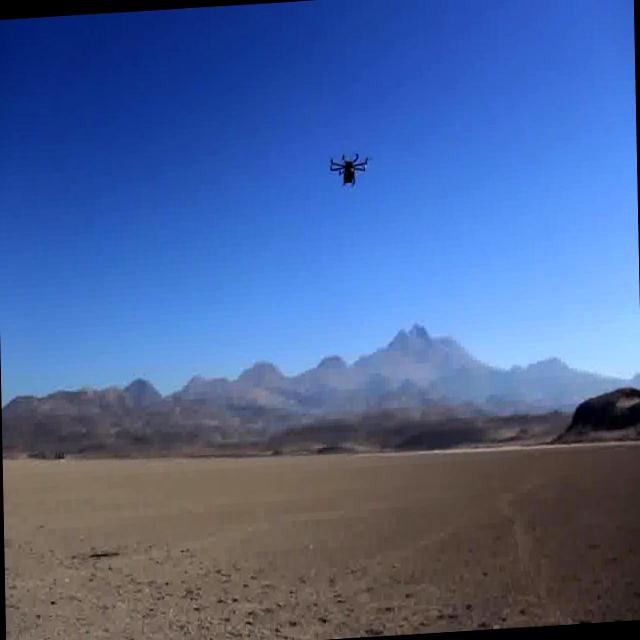drone: (327, 145, 372, 198)
